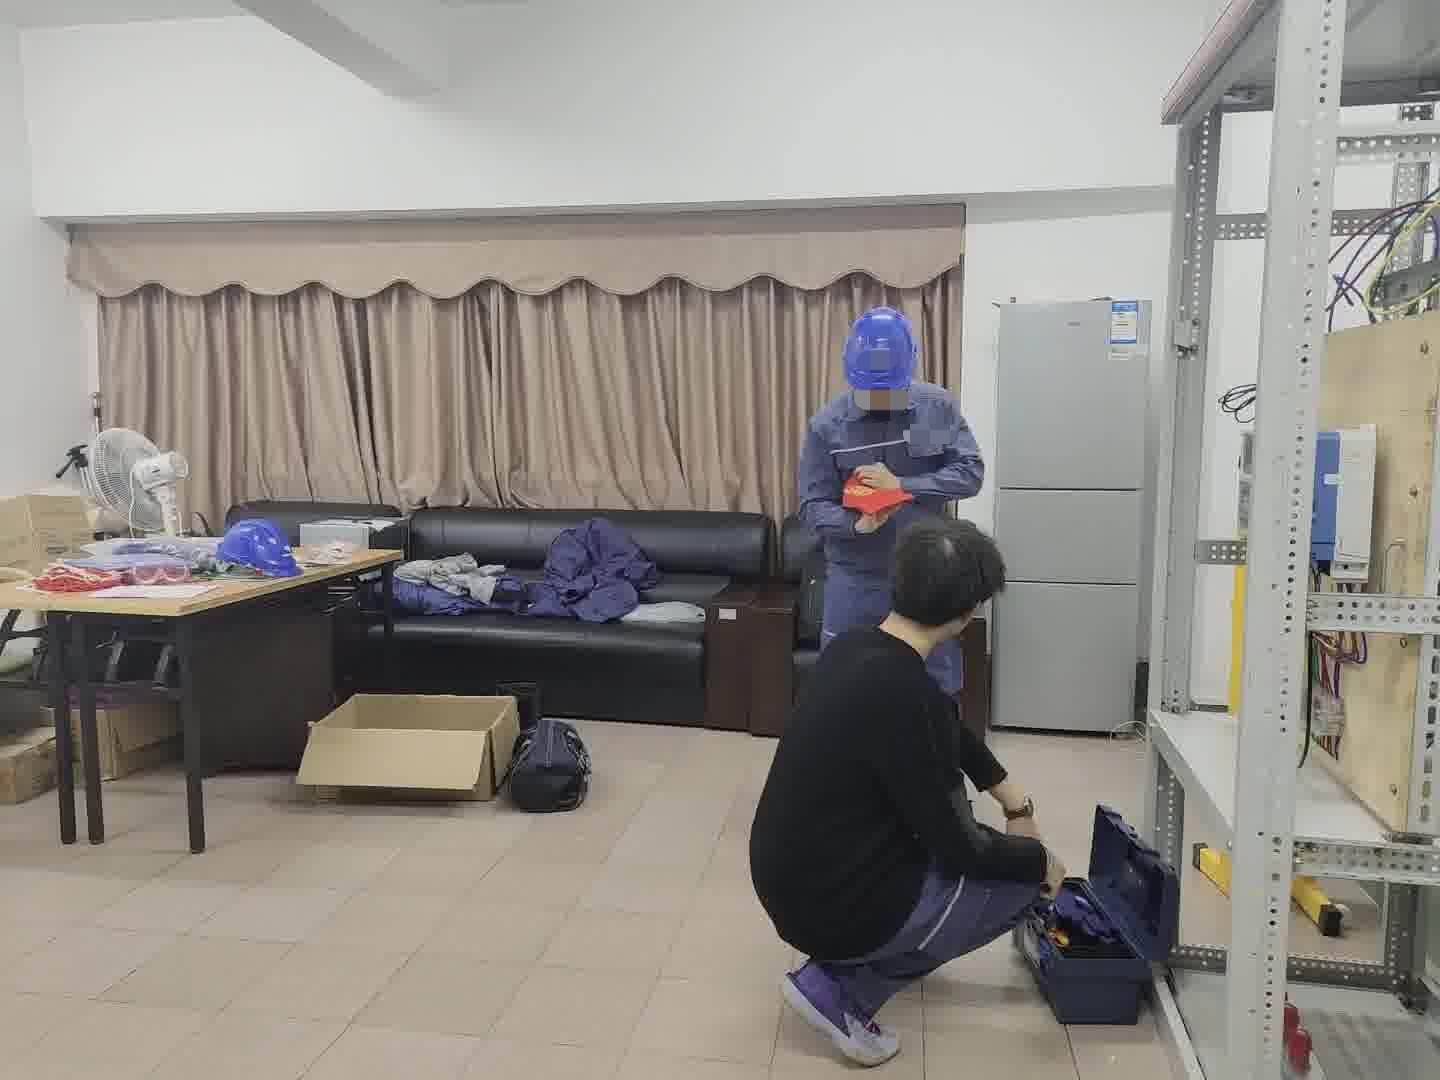halt: (842, 312, 924, 417)
unhalt: (891, 524, 1009, 644)
